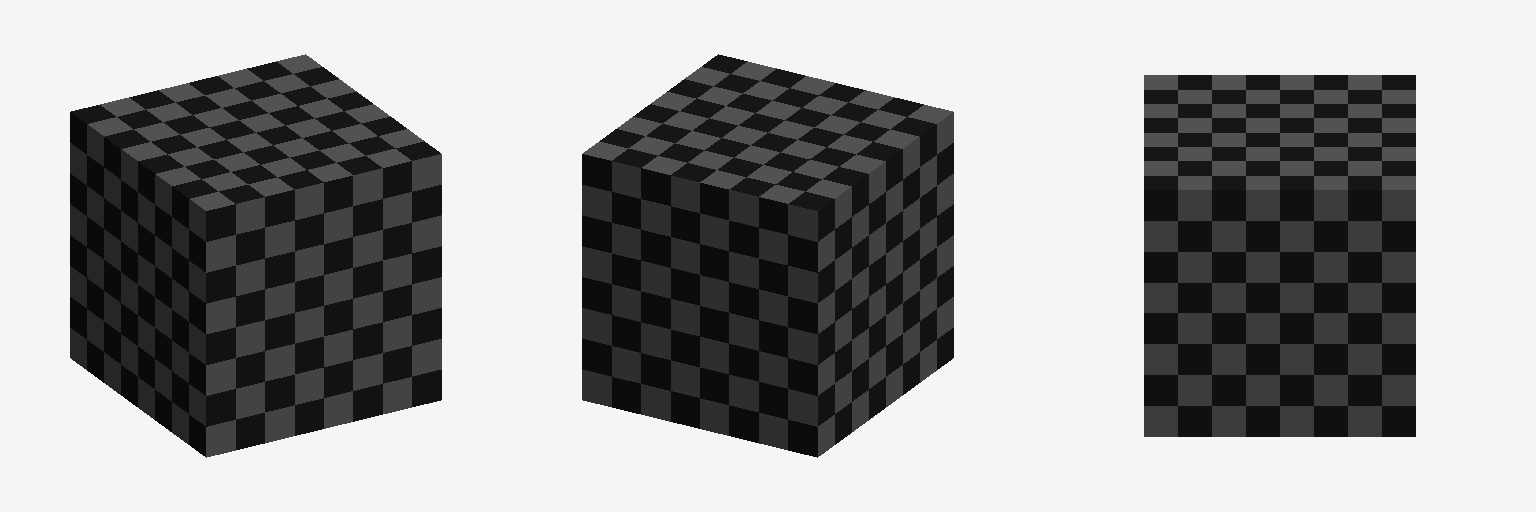
Rendered from prev2.obj.
3 views of the same model, side by side, from view 1: azimuth 30°, elevation 25°; view 2: azimuth 150°, elevation 25°; view 3: azimuth 270°, elevation 25° (orthographic).
Visible parts, largest first — view 1: Cube, Cube.002_Cube.003; view 2: Cube.002_Cube.003, Cube; view 3: Cube, Cube.002_Cube.003.
Part boxes in pixels (bbox=[...]): Cube: bbox=[70, 54, 441, 457]; Cube.002_Cube.003: bbox=[70, 62, 441, 456]; Cube.002_Cube.003: bbox=[582, 54, 953, 457]; Cube: bbox=[582, 62, 953, 456]; Cube: bbox=[1144, 75, 1415, 436]; Cube.002_Cube.003: bbox=[1144, 75, 1415, 436].
Bounding box in the file's own units: 20 × 20 × 20.